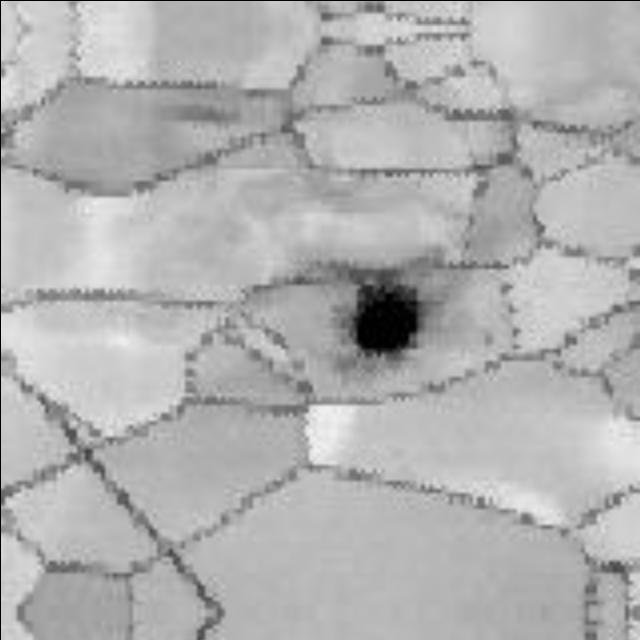good_void: (331, 275, 438, 367)
